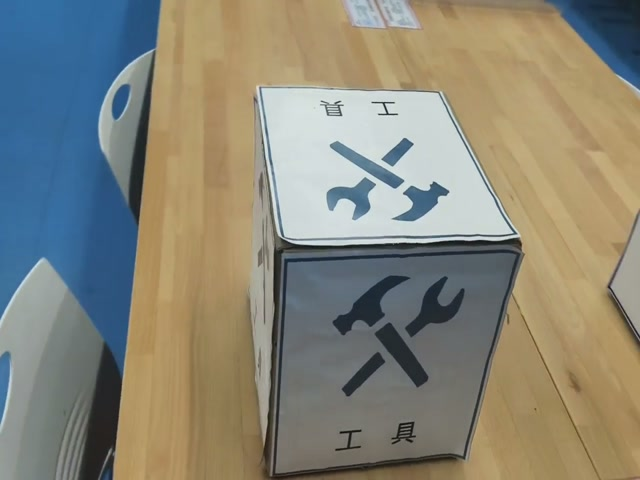Cube_tool: (256, 87, 519, 249)
